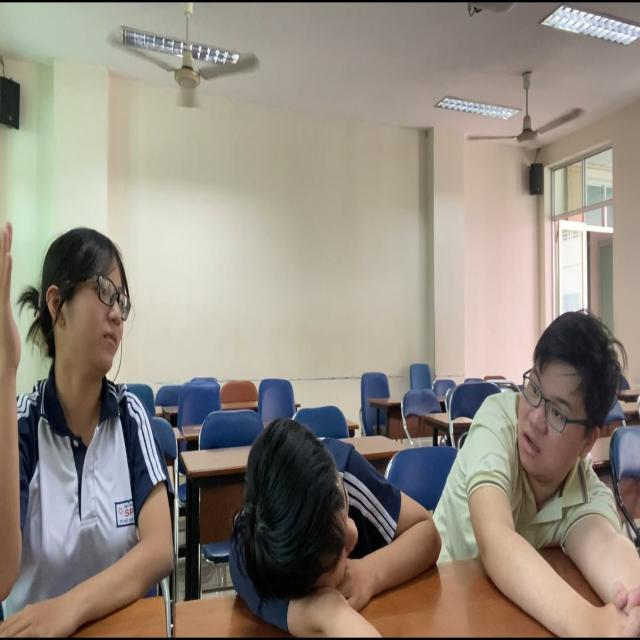raise_hand: (1, 178, 195, 640)
sleep: (218, 369, 457, 640)
